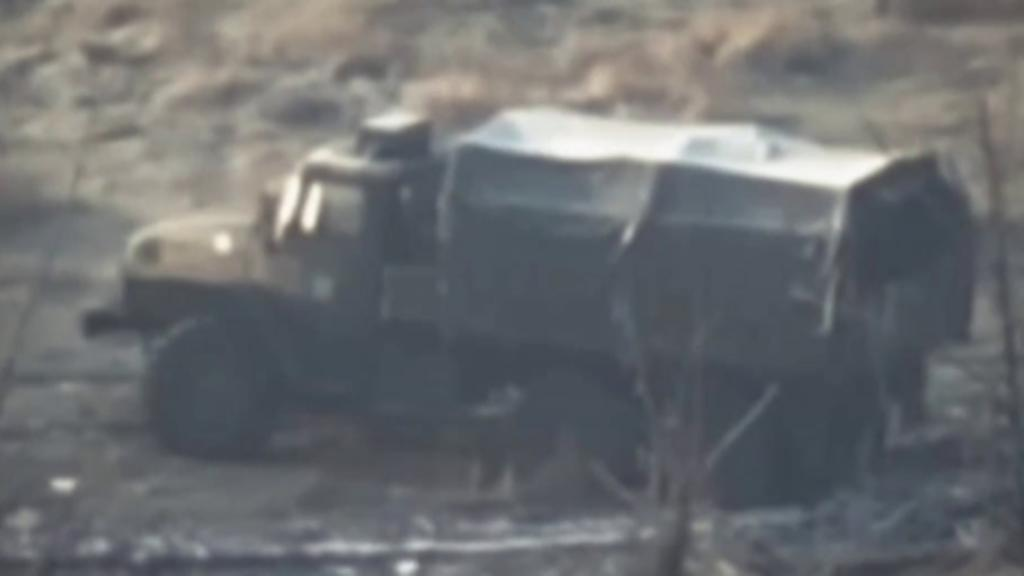TRUCK: (82, 91, 974, 503)
